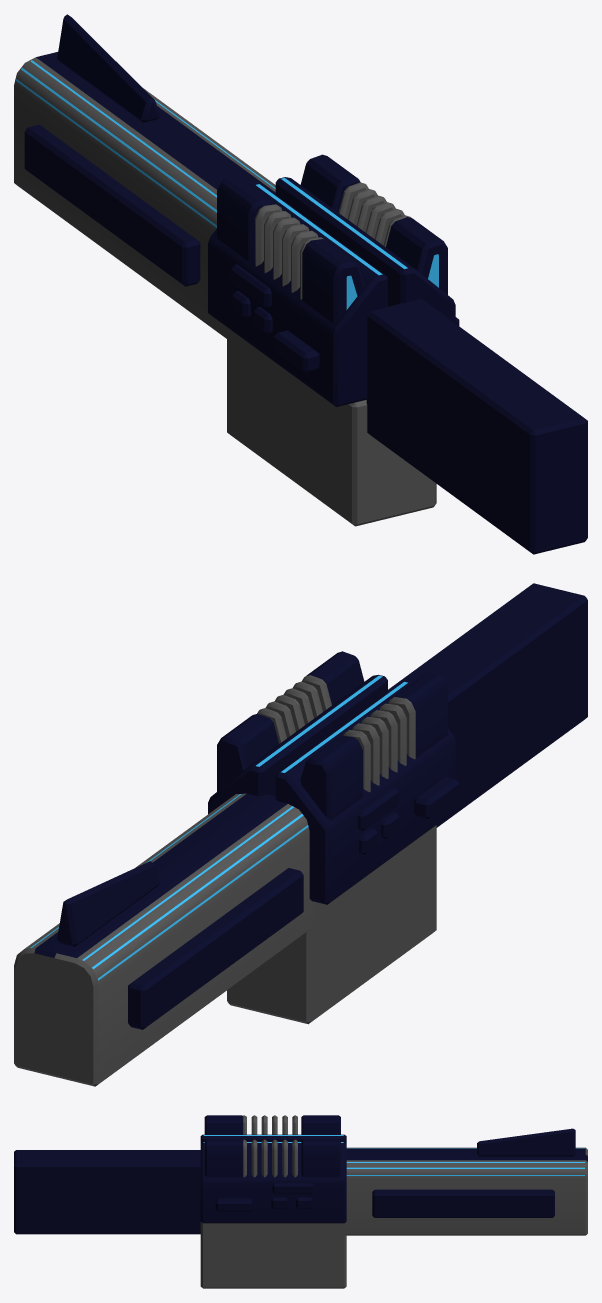
File: Weapon.fbx
3 renders of one model, top to bottom at view 1: azimuth 30°, elevation 25°; view 2: azimuth 150°, elevation 25°; view 3: azimuth 270°, elevation 25°, orthographic. The views are drawn at different scales.
Visible parts, largest first — view 1: Cube.001; view 2: Cube.001; view 3: Cube.001.
Boxes of the visible parts, left/top/right/bottom form: Cube.001: left=14, top=14, right=587, bottom=554; Cube.001: left=14, top=583, right=587, bottom=1086; Cube.001: left=14, top=1115, right=587, bottom=1288.
Size of the model in its own units: 11.46 by 18.41 by 64.2.
